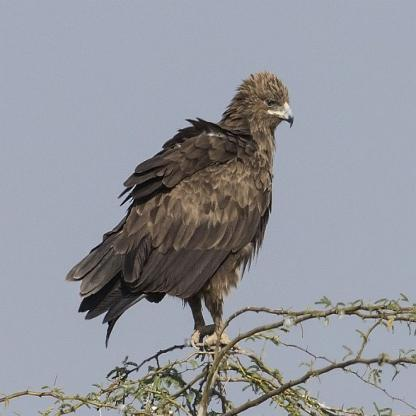Burung: (61, 72, 295, 351)
